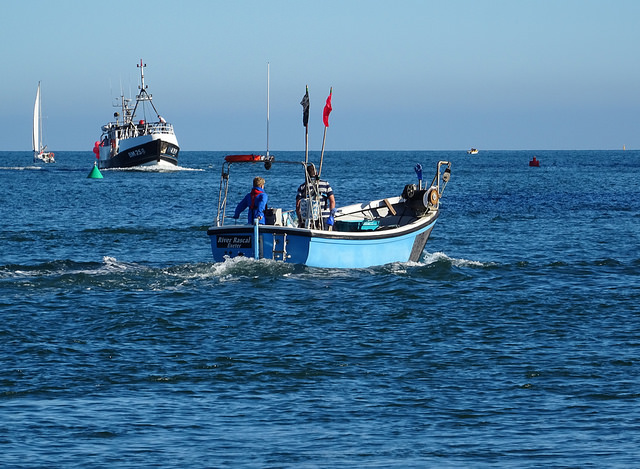boat: (27, 79, 56, 162), (466, 145, 484, 154)
fishing_boat: (211, 97, 464, 273), (93, 52, 182, 171)
